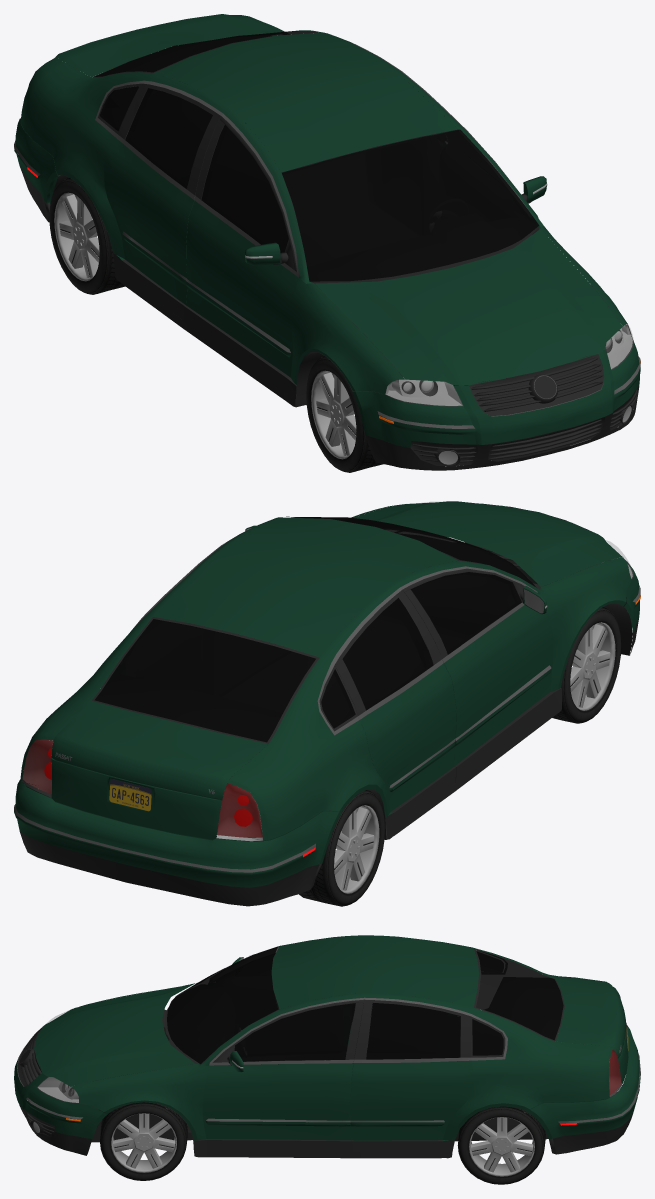
The model's file is volkswagen-passat-b55.glb.
3 views of the same model, one above another, from view 1: azimuth 30°, elevation 25°; view 2: azimuth 150°, elevation 25°; view 3: azimuth 270°, elevation 25° (orthographic). The views are drawn at different scales.
Parts seen in each view (by area): view 1: Object_12, Object_4, Object_13, Object_3, CG_wheel_4, CG_wheel_6, Object_23, CG_wheel_0, Object_6, CG_wheel_2, Object_17; view 2: Object_12, Object_4, Object_13, Object_3, Object_16, CG_wheel_4, CG_wheel_6, CG_wheel_0, Object_18, CG_wheel_2, Object_23, Object_14; view 3: Object_12, Object_4, Object_13, Object_3, CG_wheel_7, CG_wheel_5, CG_wheel_3, CG_wheel_1, Object_23, Object_6, Object_17, Object_18 (+1 smaller).
Boxes of the visible parts, left/top/right/bottom form: Object_12: left=14, top=14, right=640, bottom=448; Object_4: left=94, top=31, right=539, bottom=281; Object_13: left=20, top=31, right=638, bottom=470; Object_3: left=14, top=41, right=640, bottom=428; CG_wheel_4: left=54, top=192, right=99, bottom=281; CG_wheel_6: left=311, top=370, right=356, bottom=459; Object_23: left=53, top=36, right=633, bottom=429; CG_wheel_0: left=49, top=178, right=125, bottom=294; Object_6: left=386, top=325, right=633, bottom=405; CG_wheel_2: left=306, top=356, right=383, bottom=472; Object_17: left=385, top=323, right=632, bottom=405; Object_12: left=14, top=501, right=639, bottom=887; Object_4: left=94, top=516, right=536, bottom=742; Object_13: left=20, top=503, right=638, bottom=906; Object_3: left=14, top=527, right=640, bottom=872; Object_16: left=22, top=739, right=262, bottom=837; CG_wheel_4: left=334, top=805, right=379, bottom=893; CG_wheel_6: left=570, top=622, right=615, bottom=710; CG_wheel_0: left=299, top=790, right=385, bottom=906; Object_18: left=23, top=605, right=547, bottom=841; CG_wheel_2: left=552, top=607, right=621, bottom=723; Object_23: left=51, top=517, right=633, bottom=839; Object_14: left=109, top=779, right=151, bottom=811; Object_12: left=14, top=935, right=640, bottom=1140; Object_4: left=167, top=946, right=563, bottom=1064; Object_13: left=17, top=948, right=633, bottom=1170; Object_3: left=17, top=947, right=640, bottom=1123; CG_wheel_7: left=111, top=1113, right=176, bottom=1172; CG_wheel_5: left=469, top=1117, right=534, bottom=1176; CG_wheel_3: left=100, top=1102, right=187, bottom=1180; CG_wheel_1: left=457, top=1045, right=595, bottom=1184; Object_23: left=37, top=937, right=621, bottom=1155; Object_6: left=37, top=1011, right=77, bottom=1102; Object_17: left=37, top=1077, right=78, bottom=1102; Object_18: left=33, top=1049, right=620, bottom=1132.
Bounding box in the file's own units: 1.89 × 1.45 × 4.7.
Materials: 19 (2 with a texture image).
